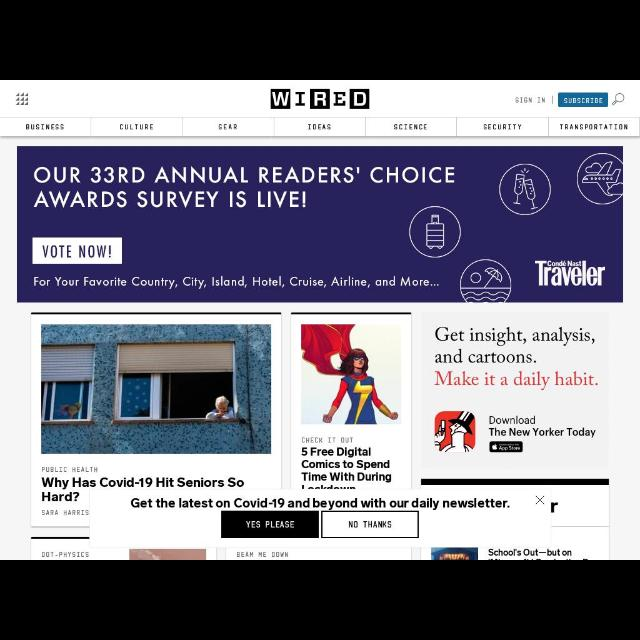backgroundimage: (18, 148, 622, 302)
icon: (15, 91, 30, 107), (611, 94, 625, 106), (534, 496, 546, 506)
iframe: (90, 488, 548, 548)
image: (42, 323, 270, 453), (302, 324, 401, 424), (270, 88, 372, 110), (434, 411, 476, 452), (130, 548, 206, 558), (430, 548, 480, 558), (488, 442, 524, 452)
text: (34, 166, 456, 208), (435, 328, 599, 388), (41, 477, 245, 505), (301, 446, 393, 492), (32, 277, 440, 287), (130, 499, 512, 509), (488, 416, 596, 438), (560, 122, 628, 132), (489, 550, 573, 558), (246, 520, 294, 530), (41, 466, 98, 474), (41, 551, 91, 559), (347, 521, 391, 529), (238, 552, 290, 558), (302, 436, 353, 442), (41, 510, 91, 516), (118, 123, 154, 131), (392, 123, 428, 131), (516, 96, 546, 104), (24, 124, 64, 130), (483, 124, 521, 130), (218, 122, 238, 132), (308, 124, 330, 130)
textbutton: (222, 510, 316, 540), (32, 238, 122, 264), (322, 513, 418, 537), (556, 93, 610, 105), (40, 549, 90, 559)
